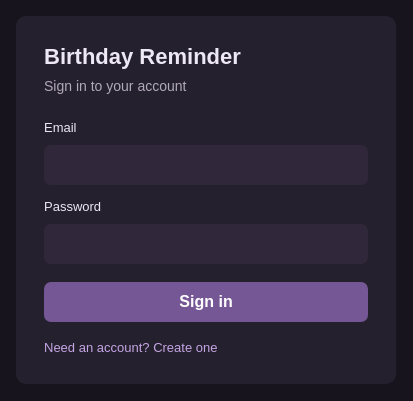
Test: AuthScreen › switches to account creation and signs up with the entered details
The image size is (413, 401).
Later steps or results of the test are not shown.
Click the button "Need an account? Create one": (131, 348) top-left (44, 340), bottom-right (218, 355)
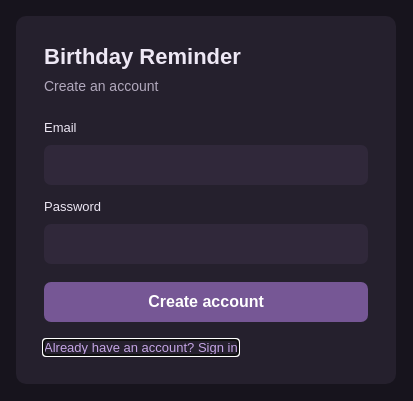
expect the text "Create an account" is shown: met, box top-left (44, 78), bottom-right (158, 94)
